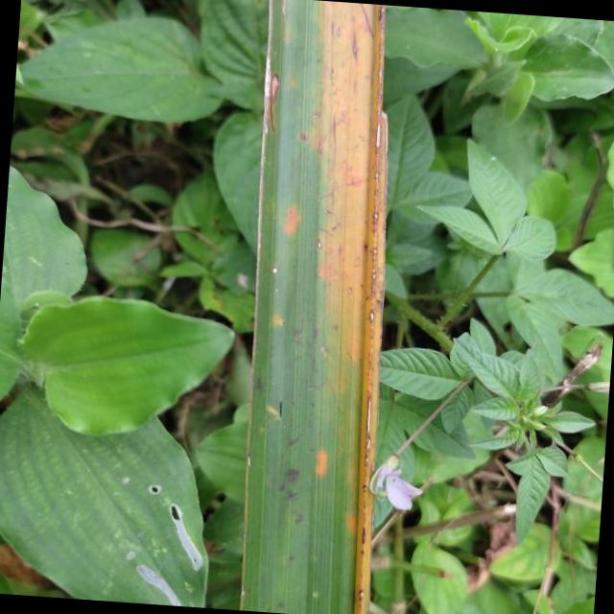Megnesium: (238, 0, 392, 614)
